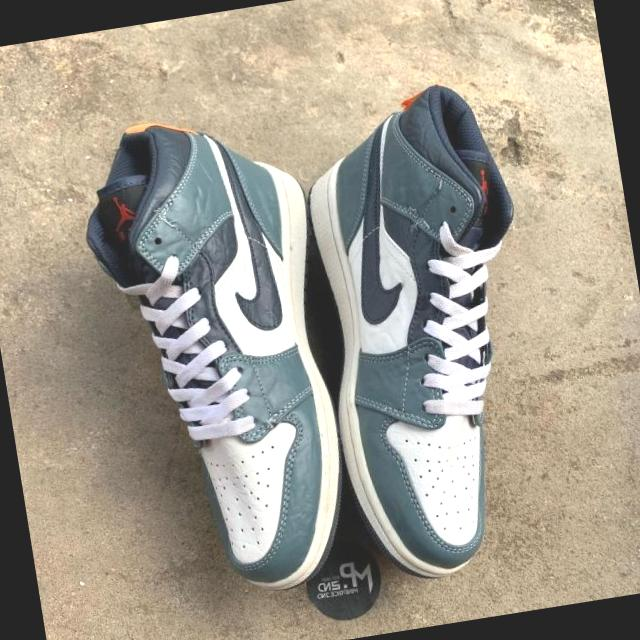nike_fake_jordan: (69, 96, 364, 614), (287, 74, 570, 590)
